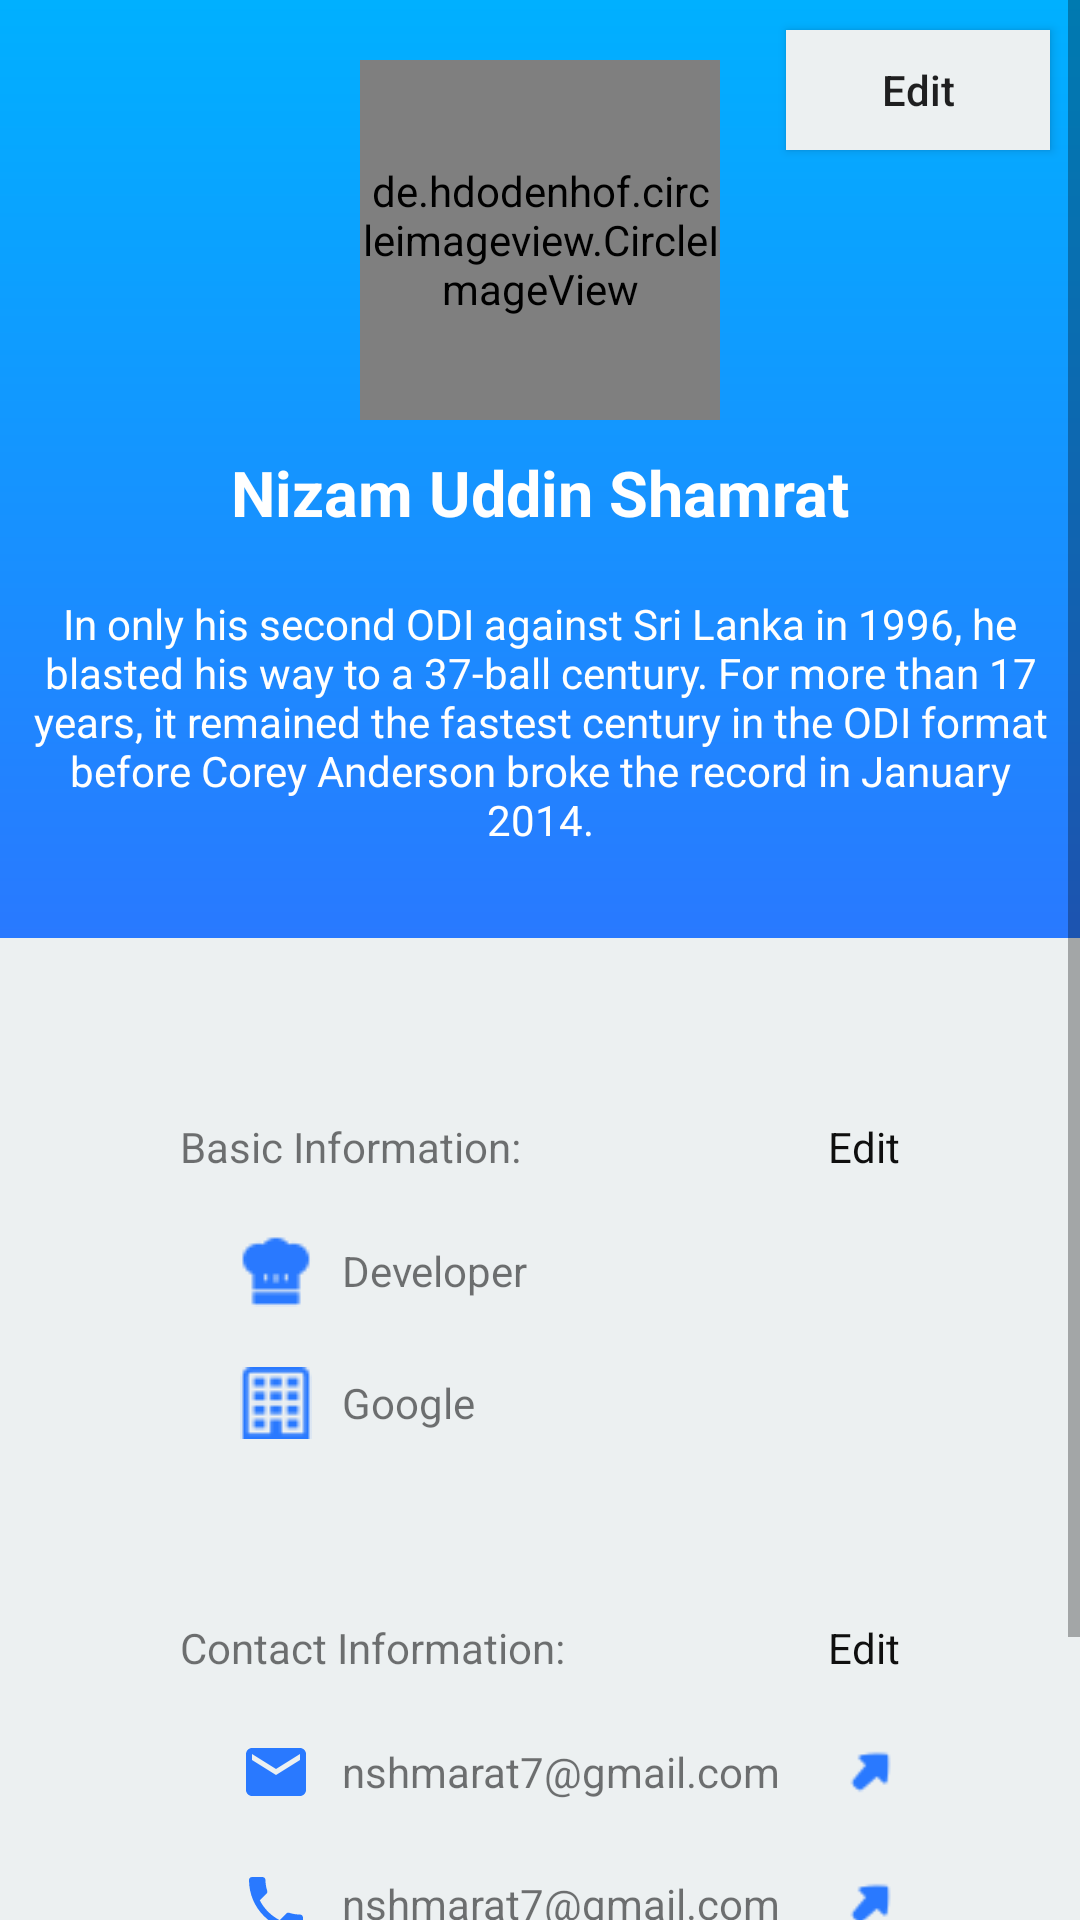

Where to tap for icons on this 1080w x 1920h app screen, as [x,y]:
email: [276,1772]
organization: [276,1403]
profession: [276,1271]
